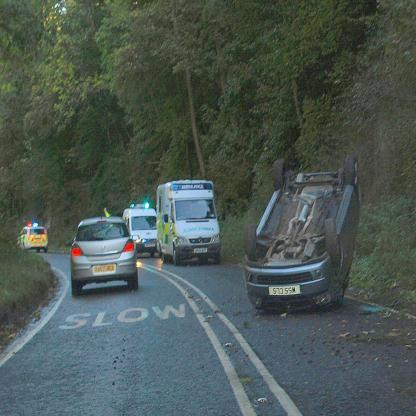ambulance: (158, 181, 222, 264), (124, 200, 160, 258), (19, 221, 48, 254)
